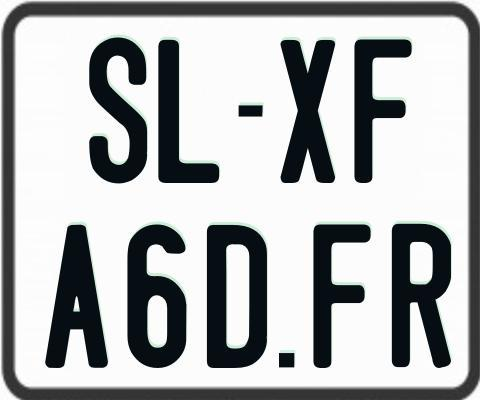6: (126, 223, 188, 373)
A: (43, 224, 108, 368)
D: (206, 223, 269, 369)
F: (353, 36, 413, 186), (311, 224, 372, 369)
L: (157, 40, 219, 185)
R: (390, 222, 450, 372)
S: (88, 35, 146, 181)
X: (278, 37, 333, 182)
